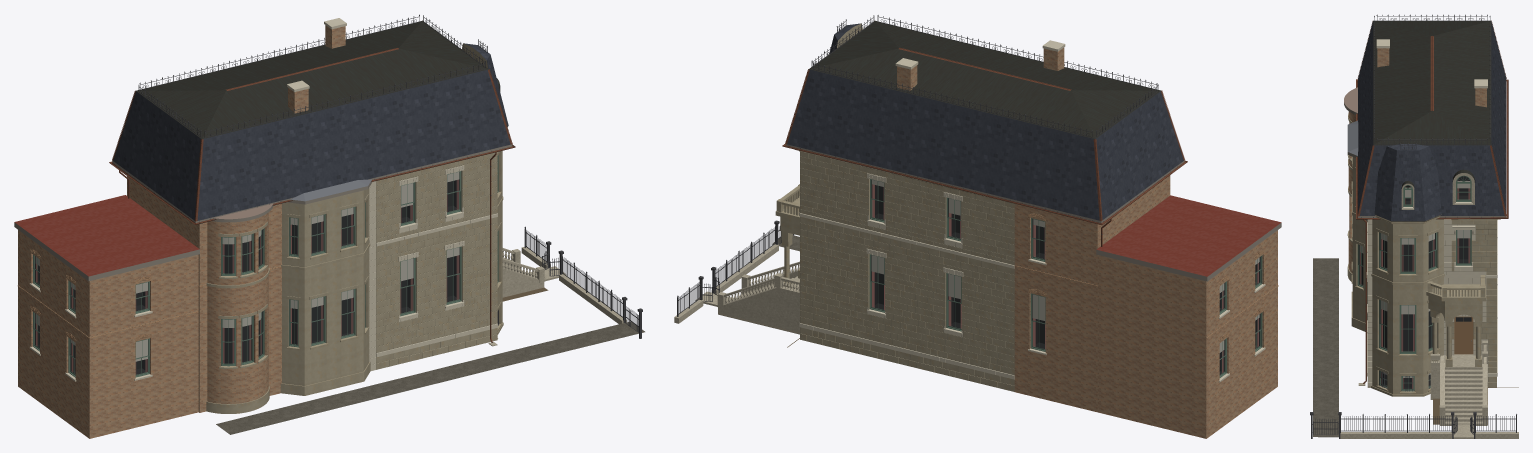
File: house_1828_prairie__as_mapped_1904.glb
3 renders of one model, left to right at view 1: azimuth 30°, elevation 25°; view 2: azimuth 150°, elevation 25°; view 3: azimuth 270°, elevation 25°, orthographic. The views are drawn at different scales.
Visible parts, largest first — view 1: house_1828_prairie__as_mapped_1904; view 2: house_1828_prairie__as_mapped_1904; view 3: house_1828_prairie__as_mapped_1904.
Part boxes in pixels (x1,y1,x2,y2): house_1828_prairie__as_mapped_1904: (14, 14, 644, 438); house_1828_prairie__as_mapped_1904: (674, 15, 1281, 438); house_1828_prairie__as_mapped_1904: (1310, 14, 1518, 438).
Size of the model in its own units: 34.29 by 18.51 by 13.23.
Materials: 29 (17 with a texture image).
